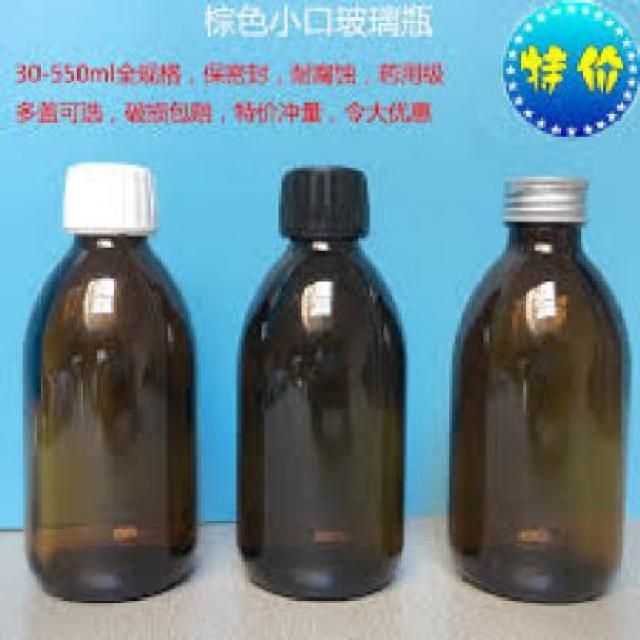kaca: (445, 222, 629, 603), (23, 234, 197, 600), (230, 240, 402, 598)
